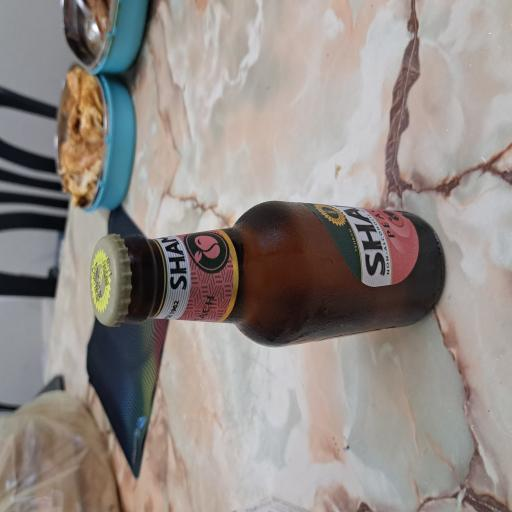glass bottle: (123, 118, 232, 512)
